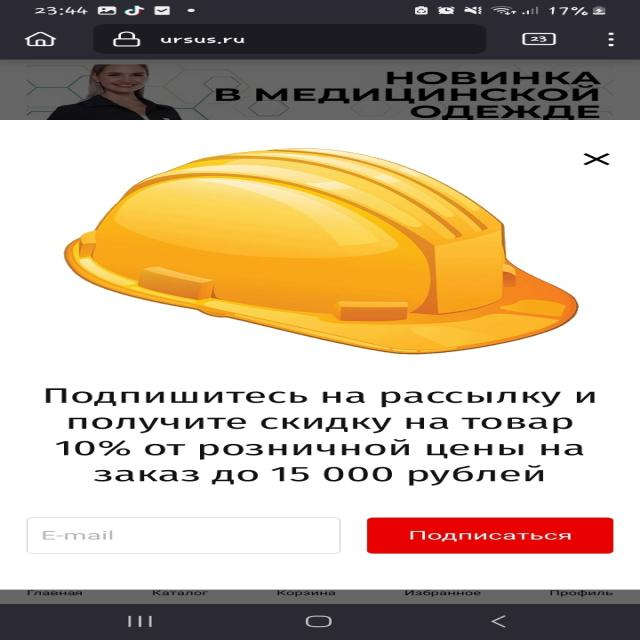button: (369, 516, 613, 556), (573, 149, 620, 168)
site: (0, 120, 640, 589)
